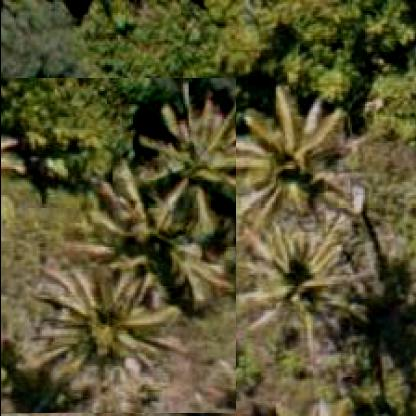coconut tree: (1, 78, 236, 415), (206, 84, 376, 352)
